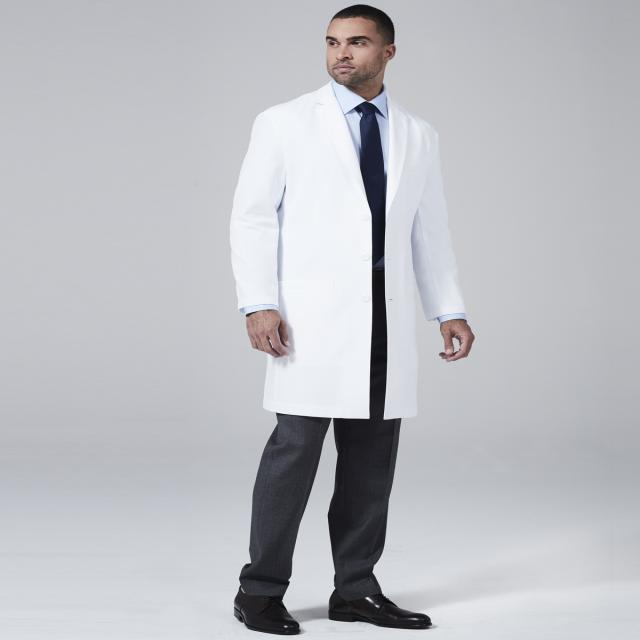mobile_phonerotation: (228, 4, 475, 634)
